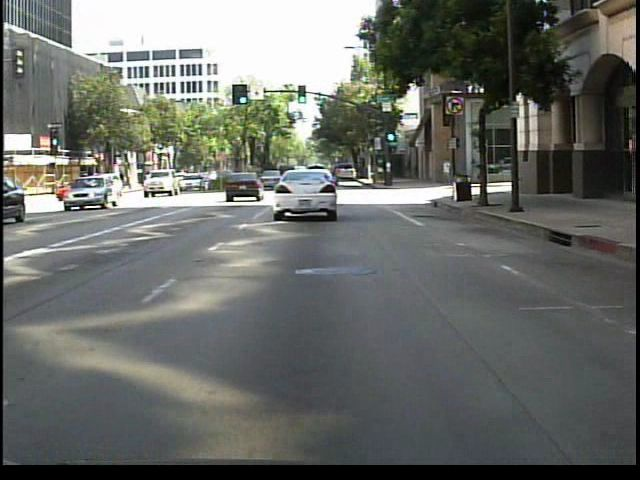person: (440, 150, 455, 189)
